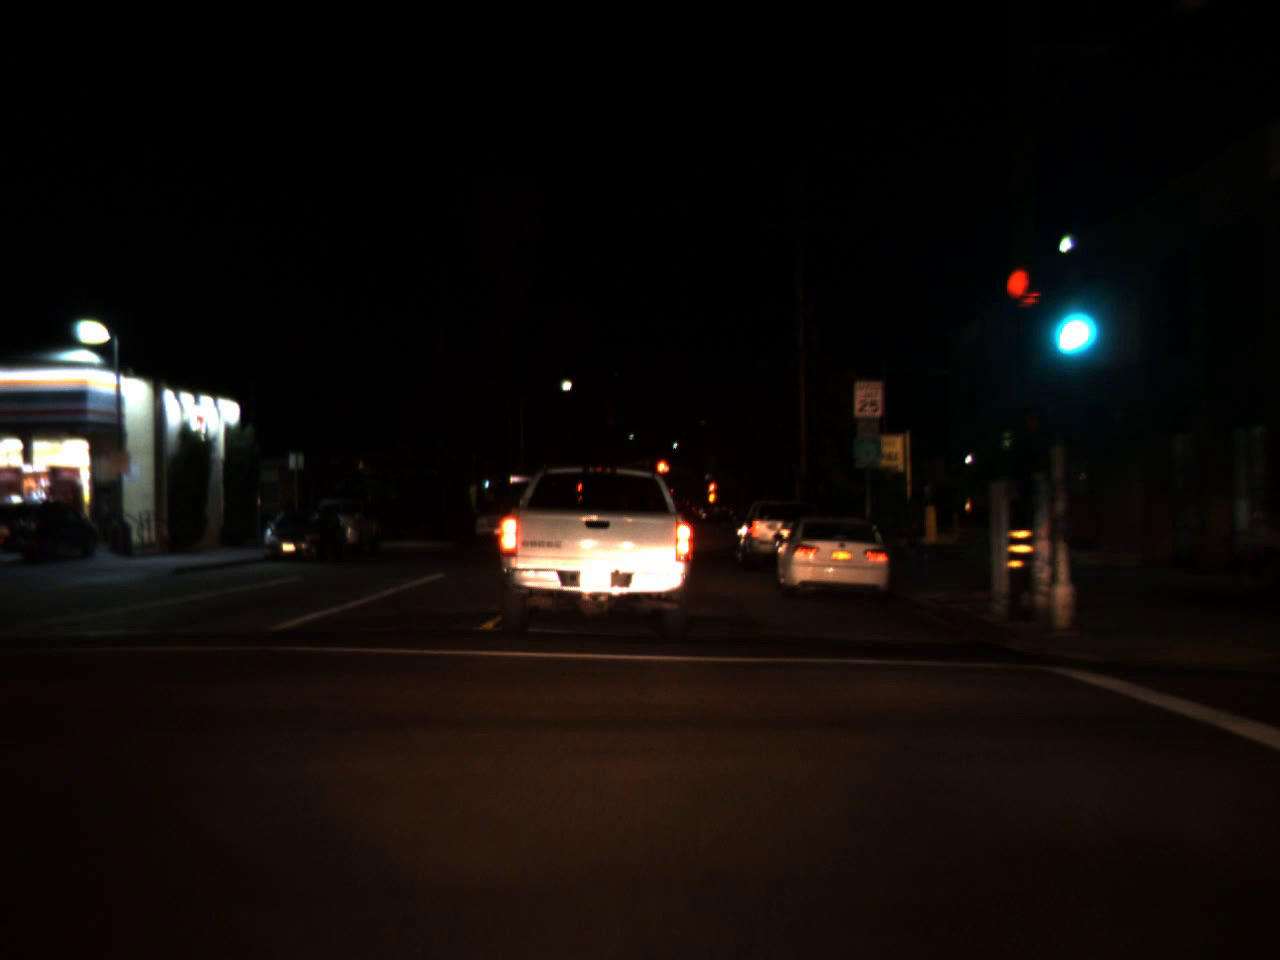go: (1046, 277, 1096, 364)
stop: (654, 456, 672, 493), (707, 482, 717, 503)
